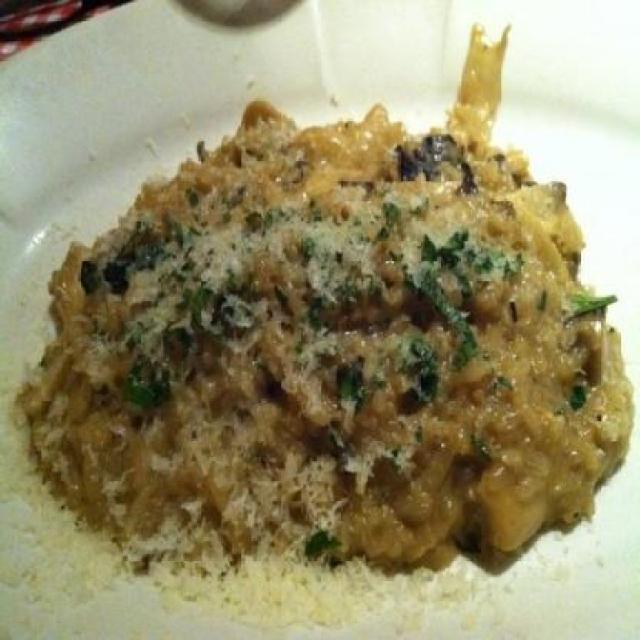Risotto: (27, 116, 624, 554)
